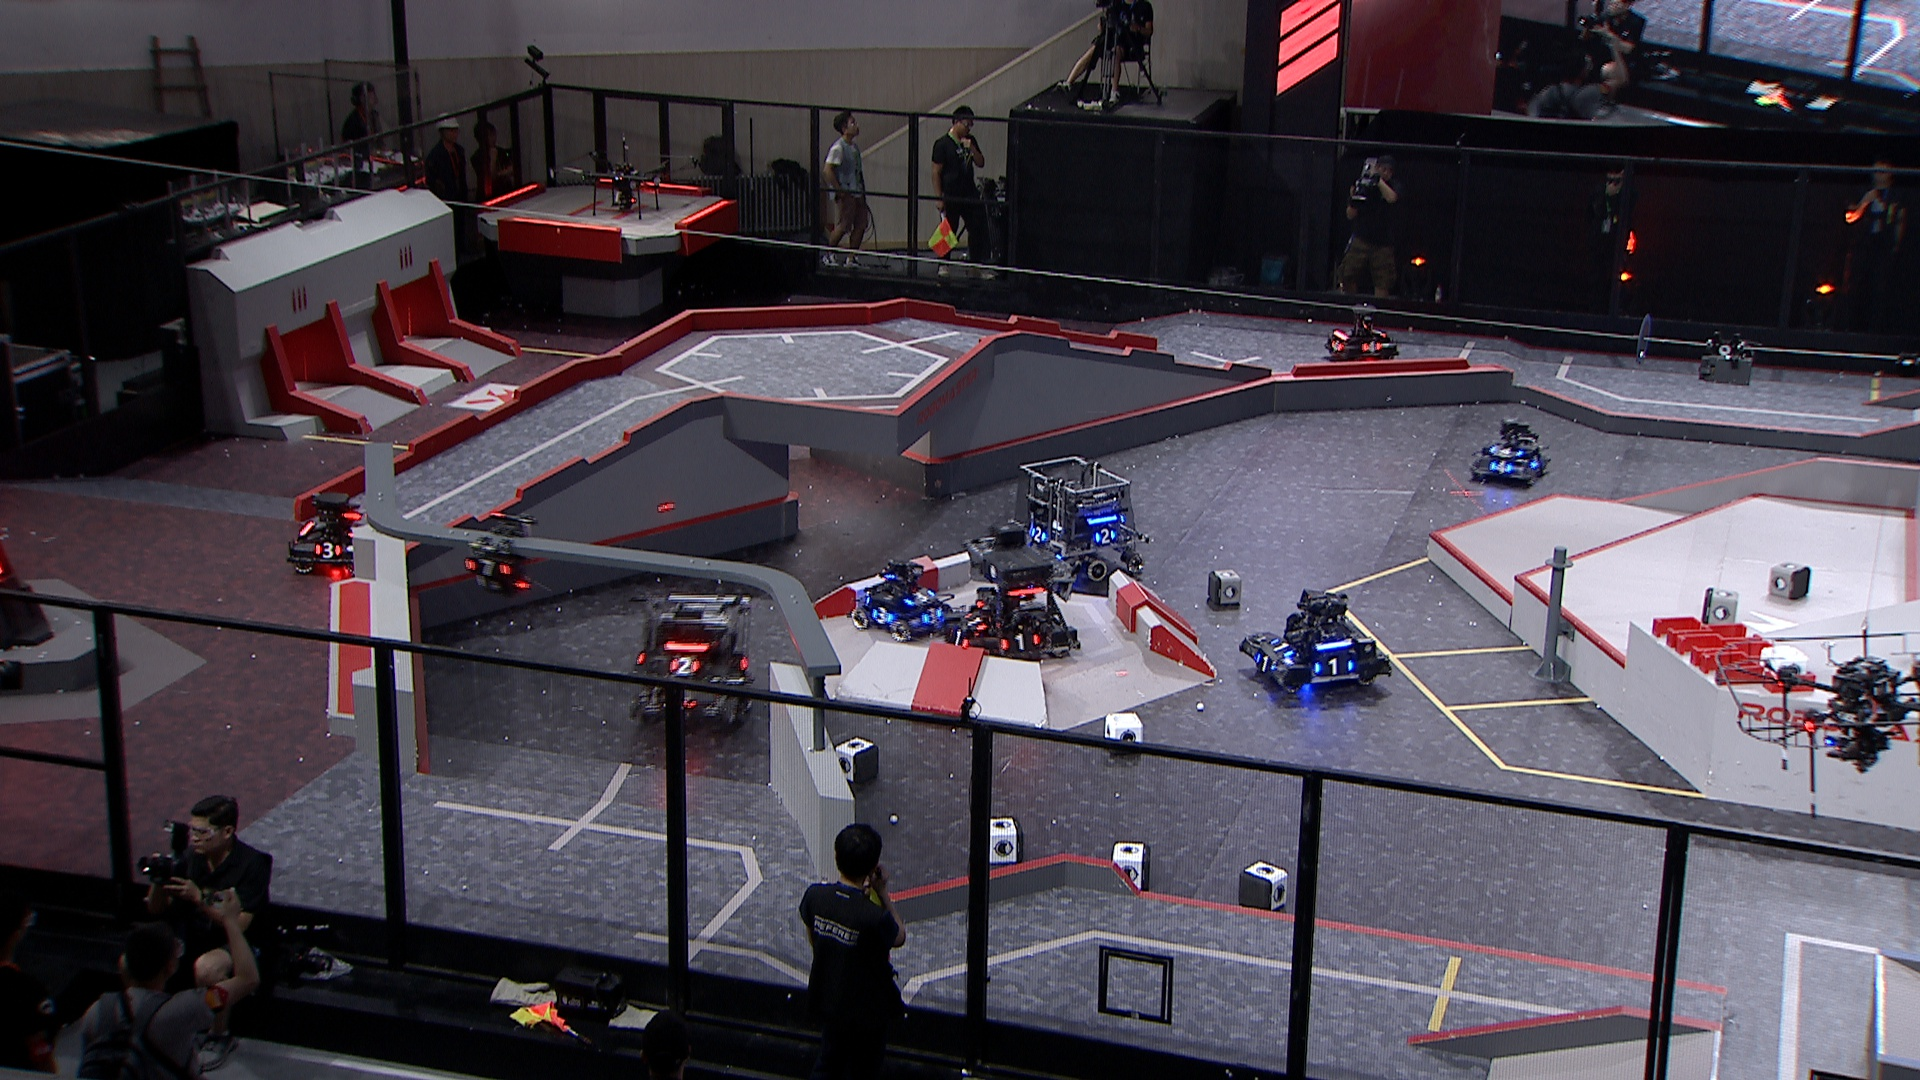armor: (463, 559, 508, 579), (1002, 632, 1040, 650), (1317, 655, 1354, 673), (1255, 647, 1276, 674), (671, 655, 699, 675), (314, 541, 342, 560), (963, 608, 984, 633), (1269, 636, 1295, 655), (905, 585, 930, 605), (923, 605, 945, 626), (949, 626, 972, 645), (1489, 458, 1513, 475), (1493, 443, 1519, 458), (1029, 526, 1048, 545), (872, 605, 889, 626), (1358, 338, 1381, 352), (1096, 529, 1117, 543), (1328, 338, 1346, 353), (1367, 323, 1386, 335), (1531, 452, 1539, 472)
car: (942, 524, 1083, 665), (624, 589, 764, 732), (1010, 454, 1153, 591), (1237, 584, 1395, 694), (847, 556, 953, 642), (289, 495, 384, 576), (1316, 302, 1399, 371), (1468, 418, 1552, 485)
watcher: (458, 509, 543, 597)
